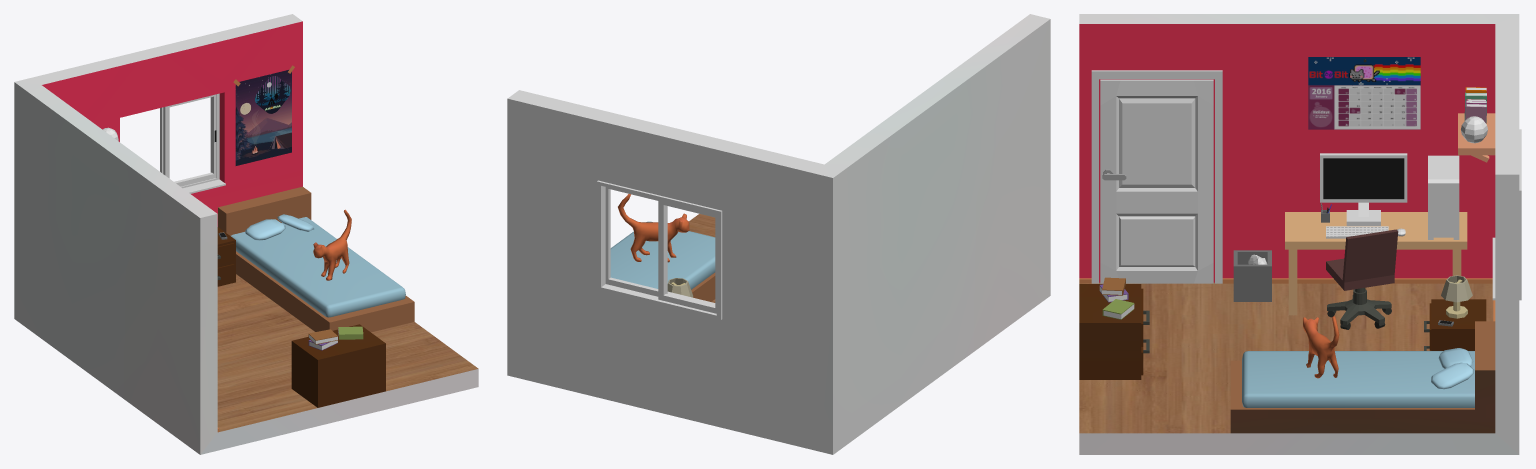
The model's file is room.glb.
The picture shows the model from 3 angles, left to right: view 1: azimuth 30°, elevation 25°; view 2: azimuth 150°, elevation 25°; view 3: azimuth 270°, elevation 25°; orthographic projection. The views are drawn at different scales.
Visible parts, largest first — view 1: Cube.002; view 2: Cube.002; view 3: Cube.002.
Boxes of the visible parts, bbox=[...] form: Cube.002: bbox=[14, 14, 478, 454]; Cube.002: bbox=[507, 14, 1050, 454]; Cube.002: bbox=[1079, 14, 1521, 454].
Bounding box in the file's own units: 320 × 260 × 372.
Materials: 3 (2 with a texture image).
